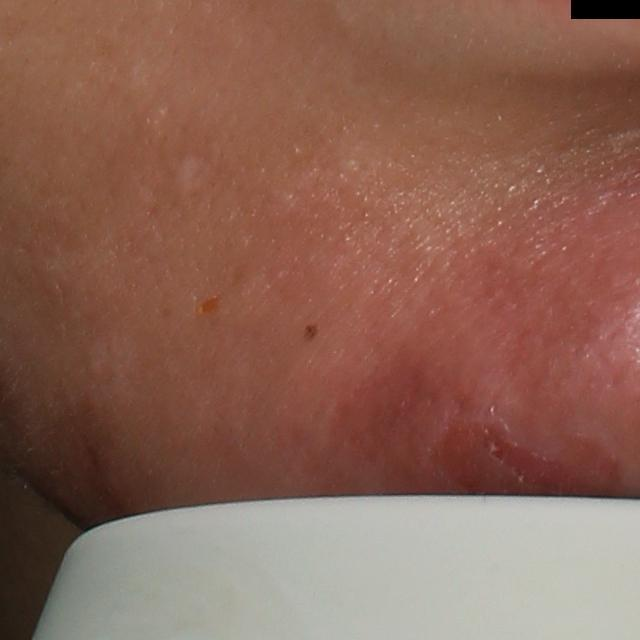hypertrophic_scar: (166, 151, 202, 209)
nevus: (302, 325, 318, 343)
